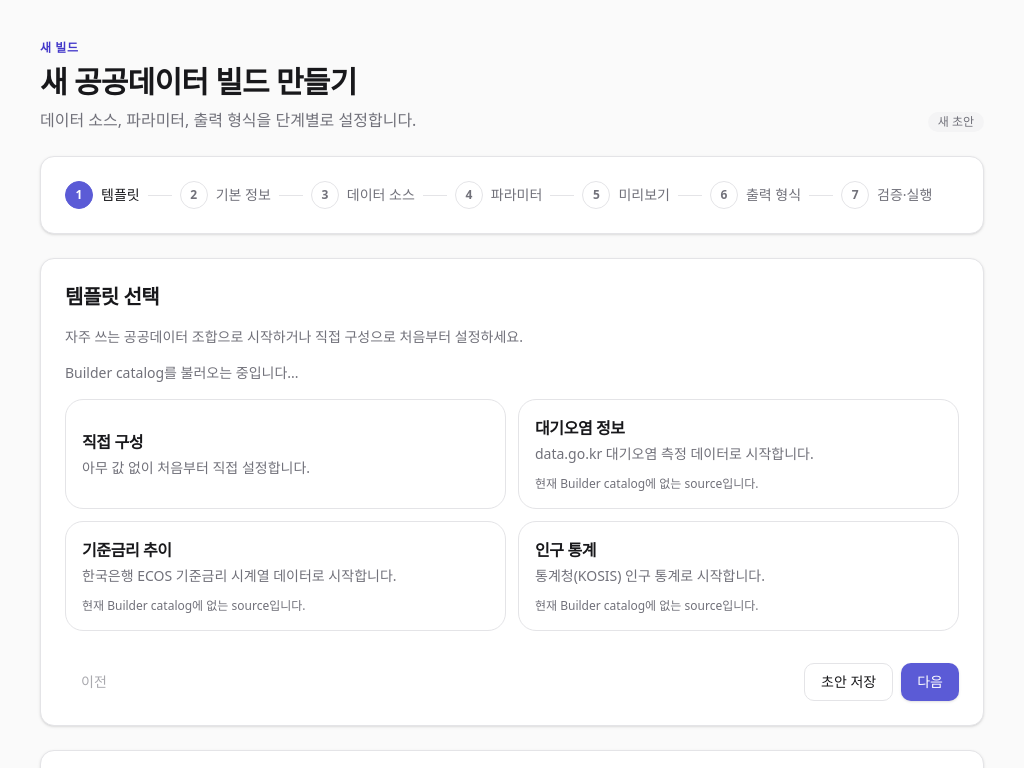
Test: New Build Wizard › uses Builder catalog providers and datasets in the source selector
Step 1. Click the button "다음" → (930,682), box x1=901 y1=663 x2=959 y2=701
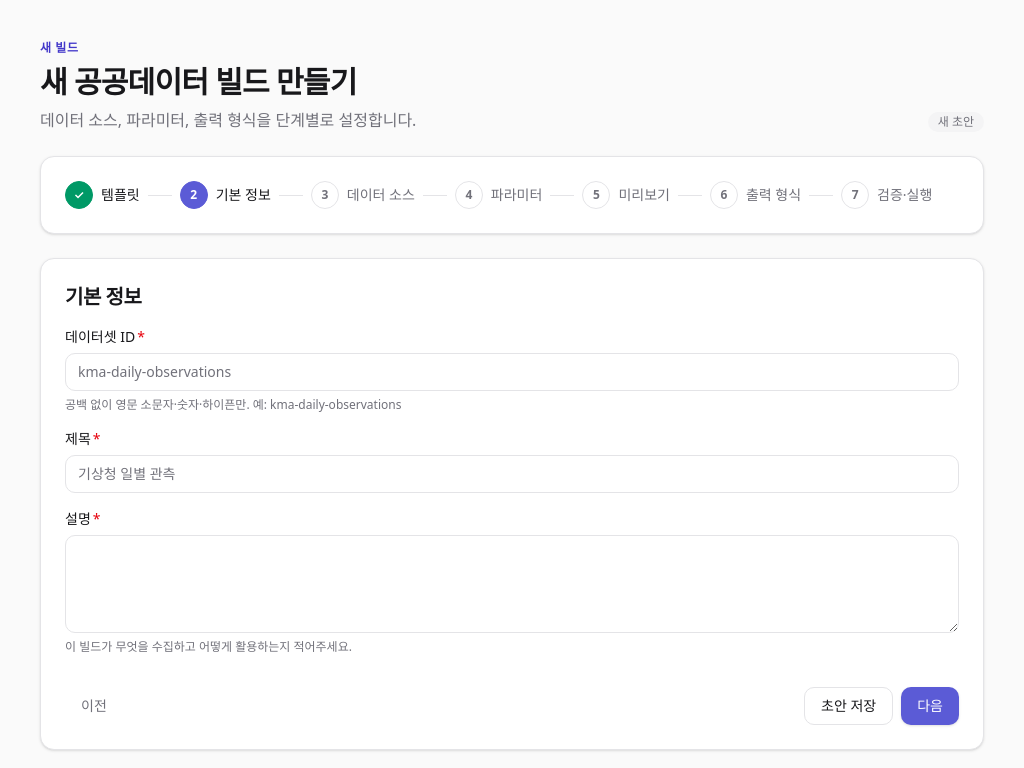
Step 2. Type "custom" into the field labelled "데이터셋 ID*" → (512,372), box x1=65 y1=353 x2=959 y2=391
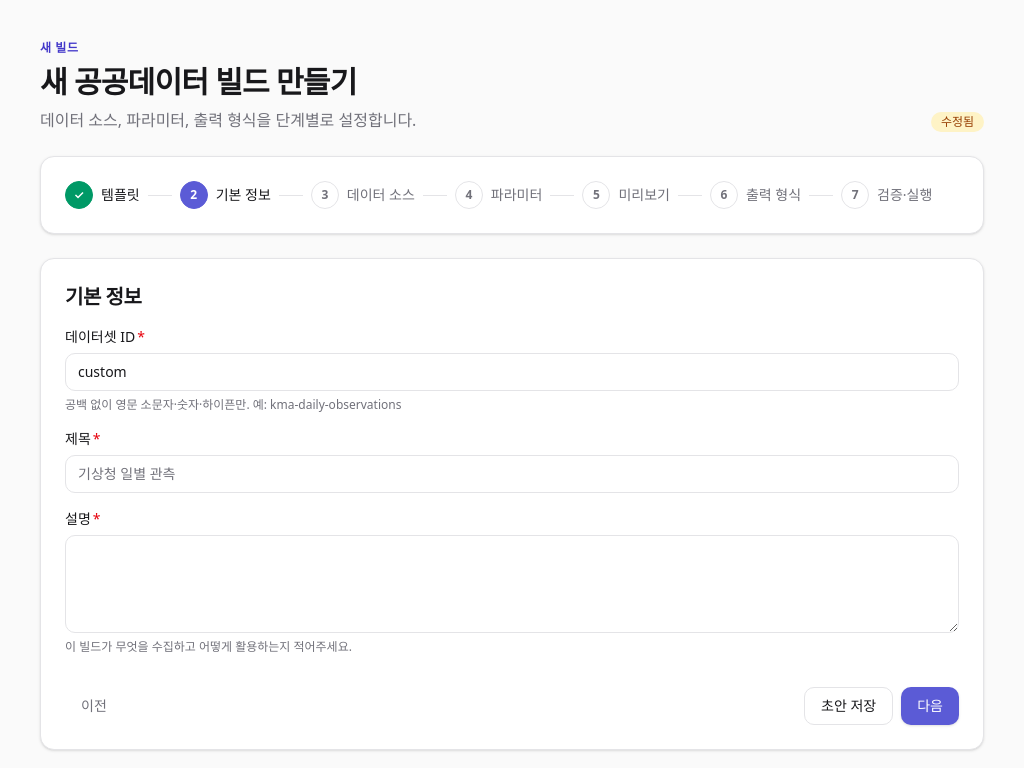
Step 3. Type "Custom" into the field labelled "제목*" → (512,474), box x1=65 y1=455 x2=959 y2=493
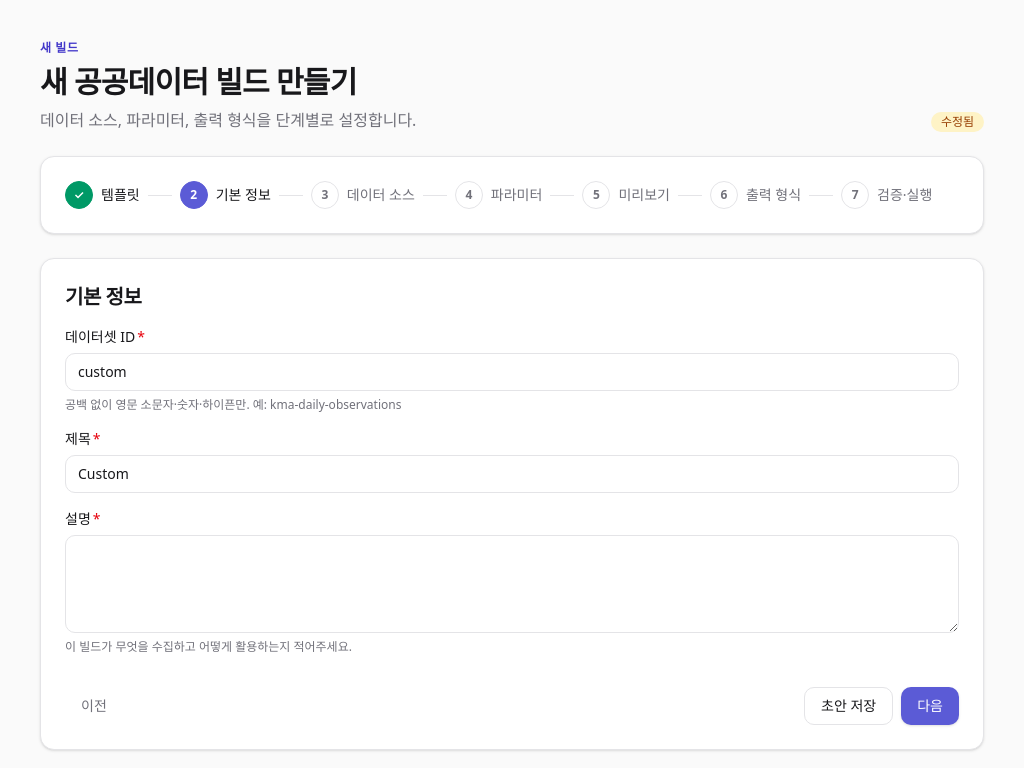
Step 4. Type "Custom dataset" into the text box labelled "설명*" → (512,584), box x1=65 y1=535 x2=959 y2=633
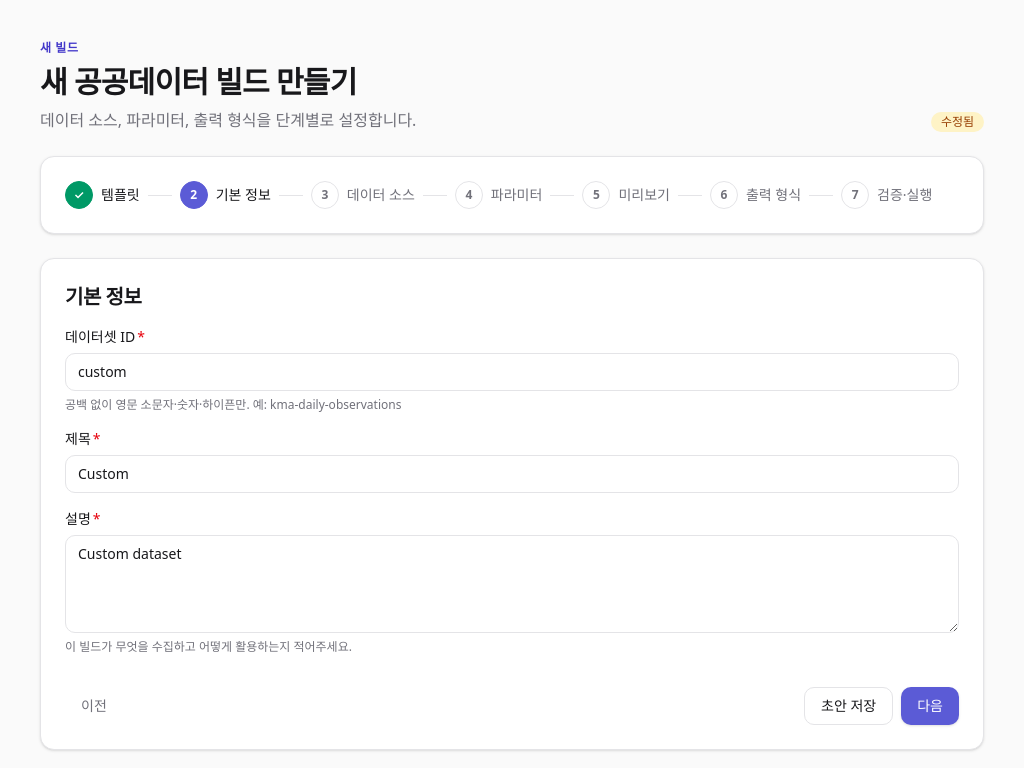
Step 5. Click the button "다음" → (930,706), box x1=901 y1=687 x2=959 y2=725
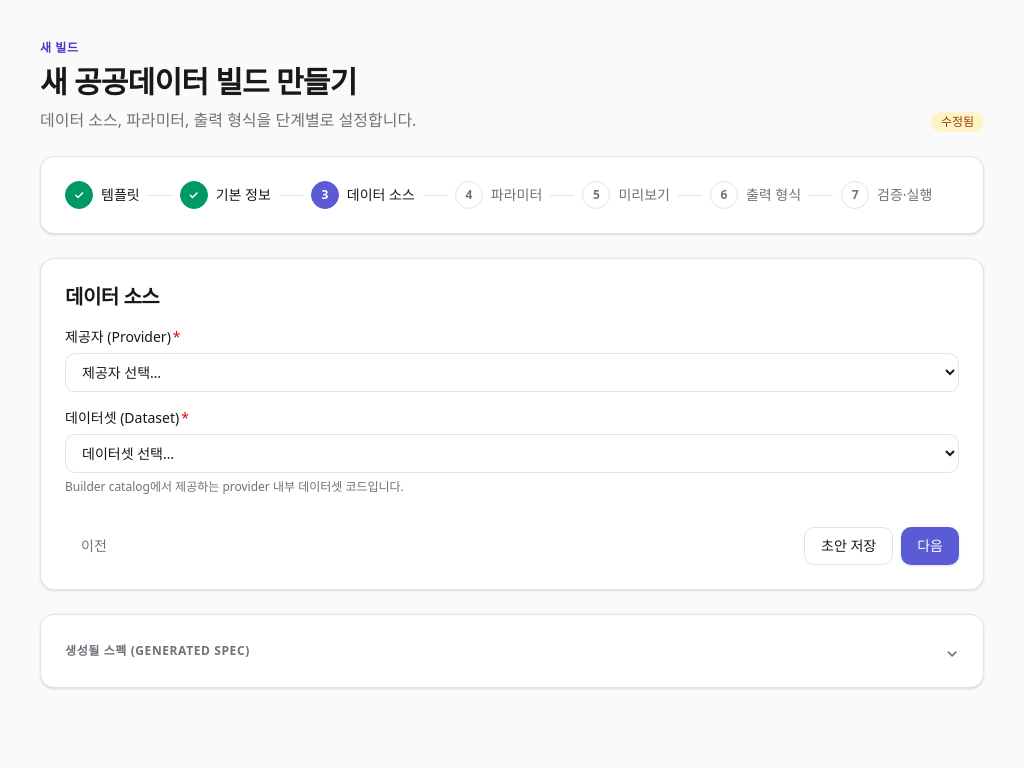
Result: the heading "데이터 소스" is shown at x1=65 y1=283 x2=159 y2=310
Step 6. Select "공공데이터포털 (data.go.kr)" in the dropdown labelled "제공자 (Provider)*" → (512,372), box x1=65 y1=353 x2=959 y2=392
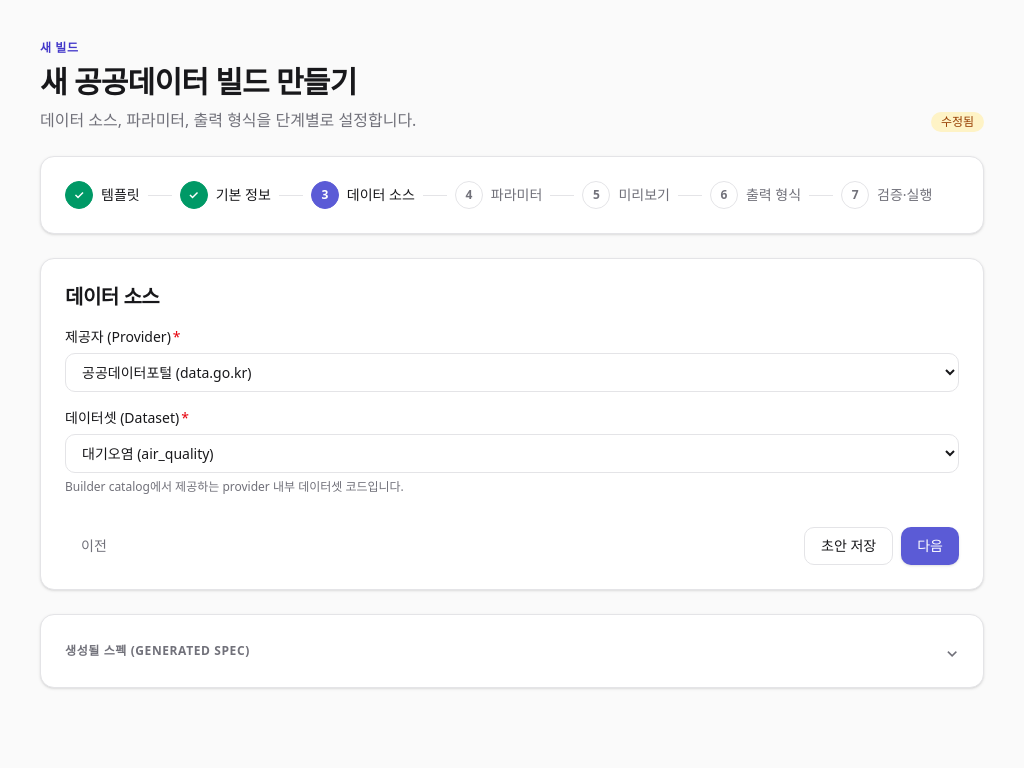
Result: the dropdown labelled "데이터셋 (Dataset)*" shows "대기오염 (air_quality)" at x1=65 y1=434 x2=959 y2=473
